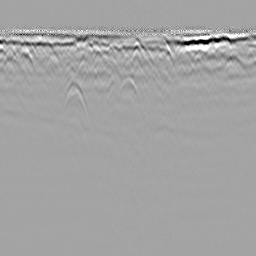cavity: (118, 75, 138, 95)
